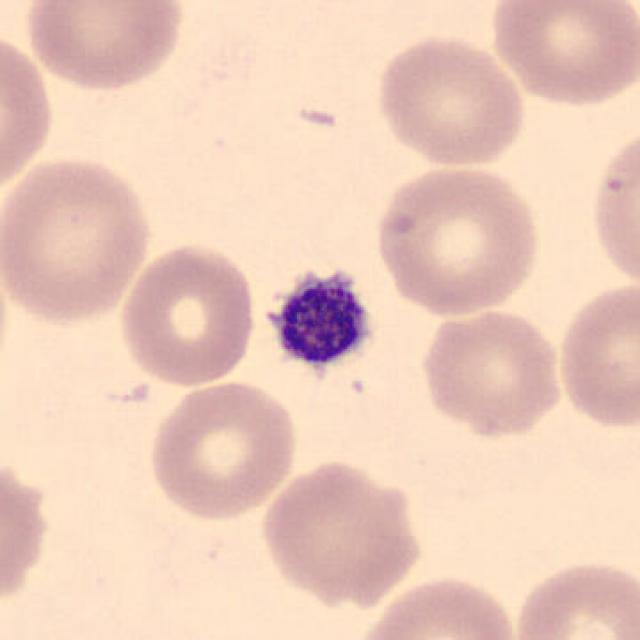Platelets: (251, 259, 382, 386)
RBC: (370, 159, 546, 319), (0, 150, 158, 328), (254, 455, 427, 610), (144, 376, 302, 524), (113, 238, 260, 391), (370, 30, 530, 169), (414, 303, 569, 441), (485, 0, 636, 109), (17, 0, 190, 93), (551, 277, 638, 434), (347, 571, 522, 640), (506, 553, 636, 640), (0, 25, 59, 201), (0, 446, 57, 619), (586, 119, 640, 296)
